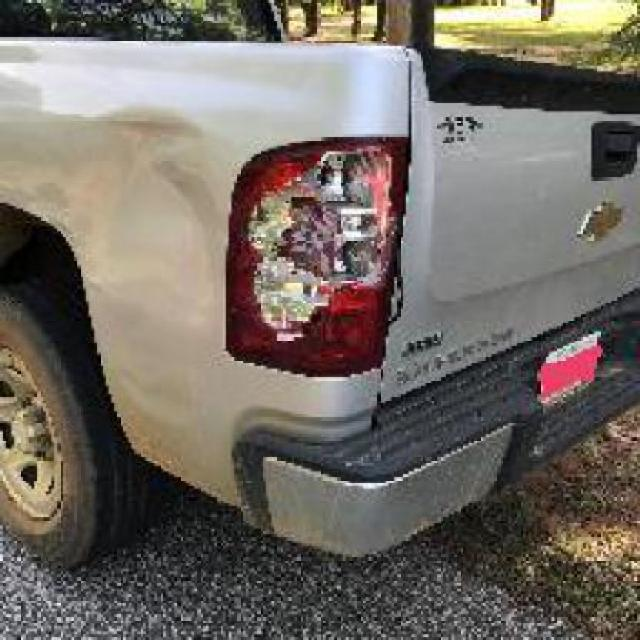damaged-tail-light: (234, 139, 426, 390)
